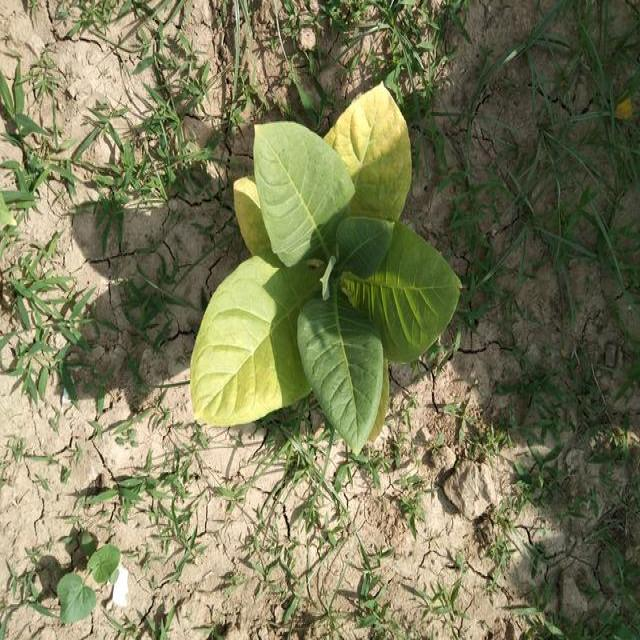crop: (186, 85, 460, 462)
